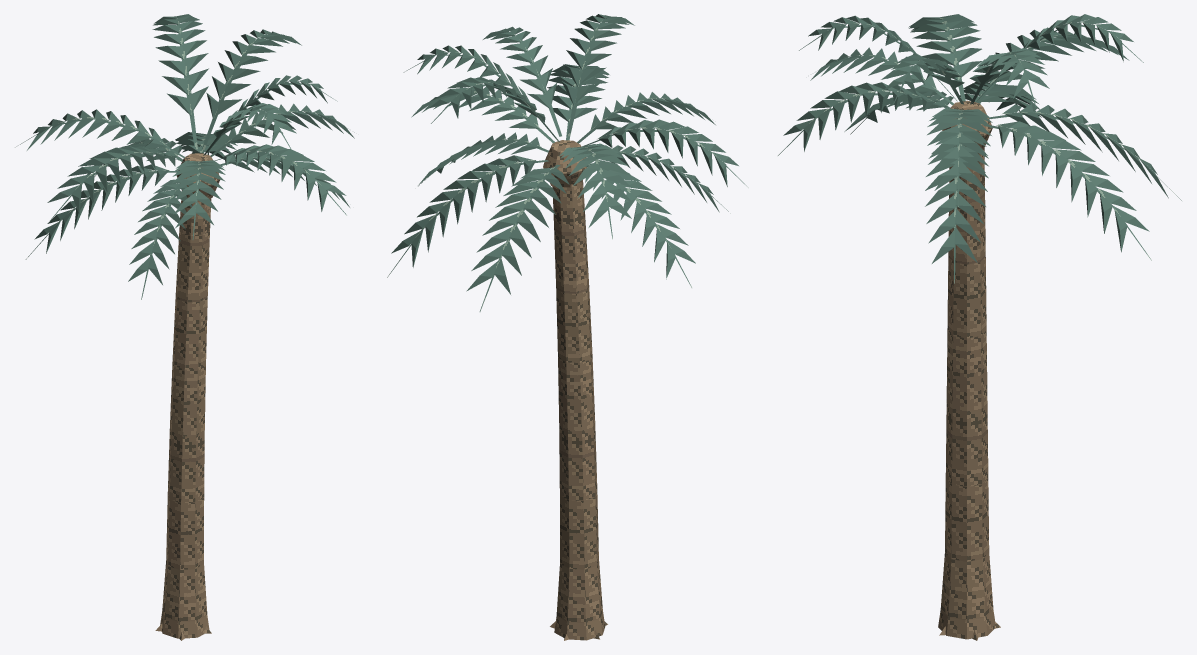
Rendered from true-date.glb.
The picture shows the model from 3 angles, left to right: view 1: azimuth 30°, elevation 25°; view 2: azimuth 150°, elevation 25°; view 3: azimuth 270°, elevation 25°; orthographic projection. The views are drawn at different scales.
Visible parts, largest first — view 1: crown_true-date, trunk_true-date; view 2: crown_true-date, trunk_true-date; view 3: crown_true-date, trunk_true-date.
Boxes of the visible parts, x1,y1,x2,y2 form: crown_true-date: (15, 14, 354, 299); trunk_true-date: (155, 153, 219, 640); crown_true-date: (387, 14, 748, 311); trunk_true-date: (543, 140, 607, 640); crown_true-date: (778, 14, 1181, 283); trunk_true-date: (938, 100, 1000, 640).
Size of the model in its own units: 7.8 by 13 by 7.56.
Materials: 2 (2 with a texture image).
